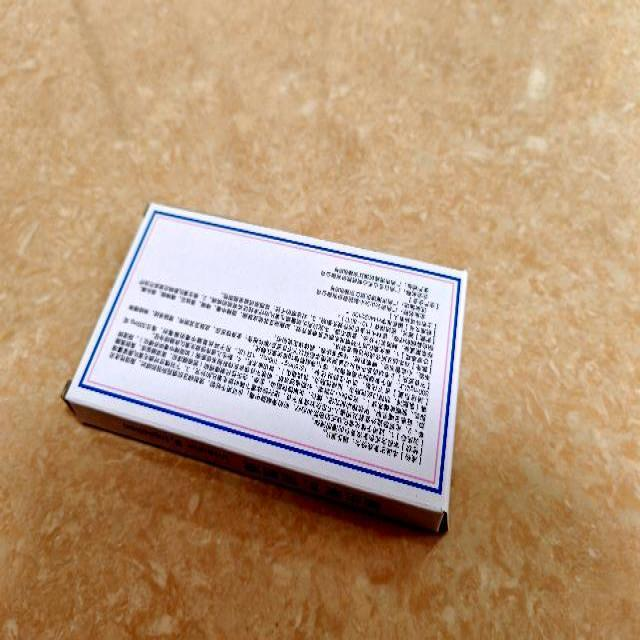box: (65, 200, 468, 532)
